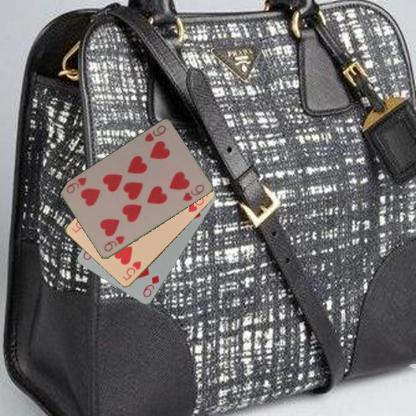5h: (119, 258, 142, 282)
9d: (140, 272, 162, 298)
9h: (142, 122, 167, 144), (101, 233, 126, 253)
